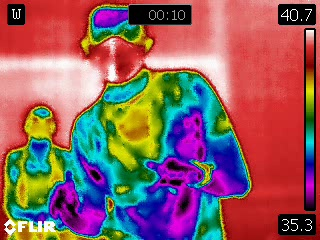human: (51, 1, 254, 240), (1, 96, 84, 240)
